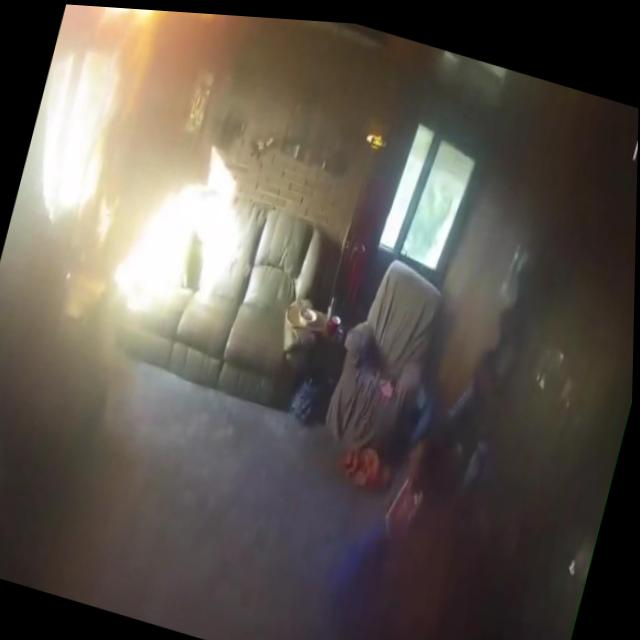fire: (72, 4, 229, 53)
